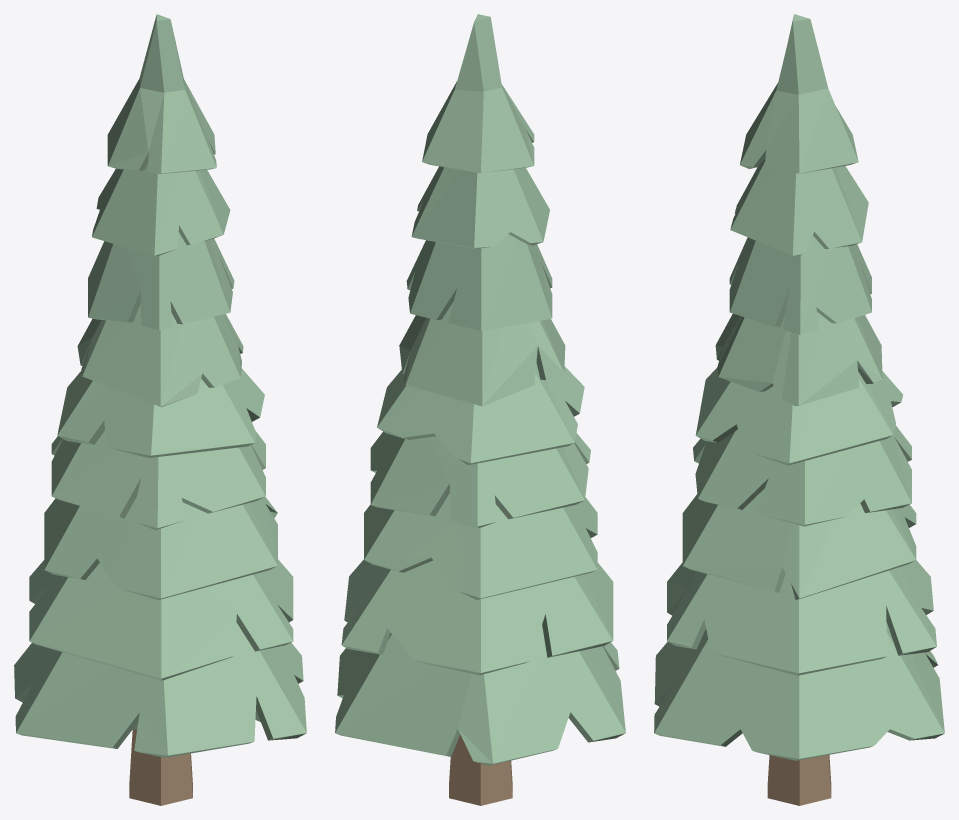
File: tallPine2.fbx
3 views of the same model, side by side, from view 1: azimuth 30°, elevation 25°; view 2: azimuth 150°, elevation 25°; view 3: azimuth 270°, elevation 25° (orthographic).
Visible parts, largest first — view 1: tall; view 2: tall; view 3: tall.
Boxes of the visible parts, box(x1,y1,x2,y2) form: tall: box(14, 14, 306, 805); tall: box(335, 14, 625, 805); tall: box(654, 14, 944, 805).
Bounding box in the file's own units: 114 × 294 × 100.
